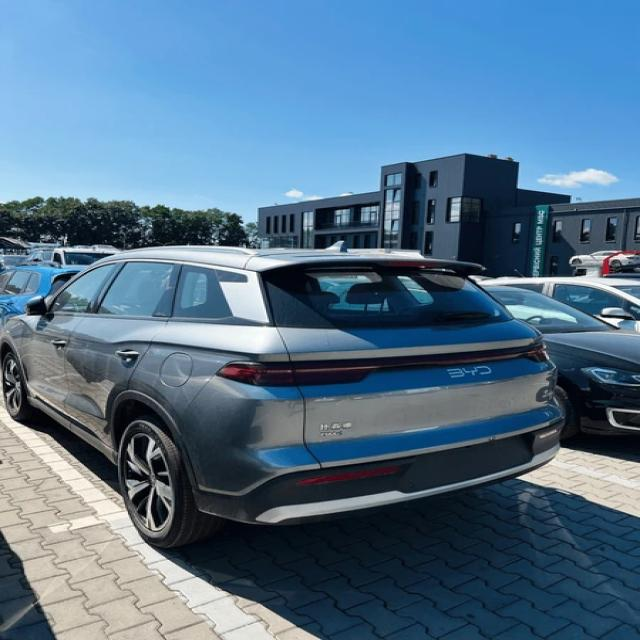byd: (441, 363, 492, 382)
